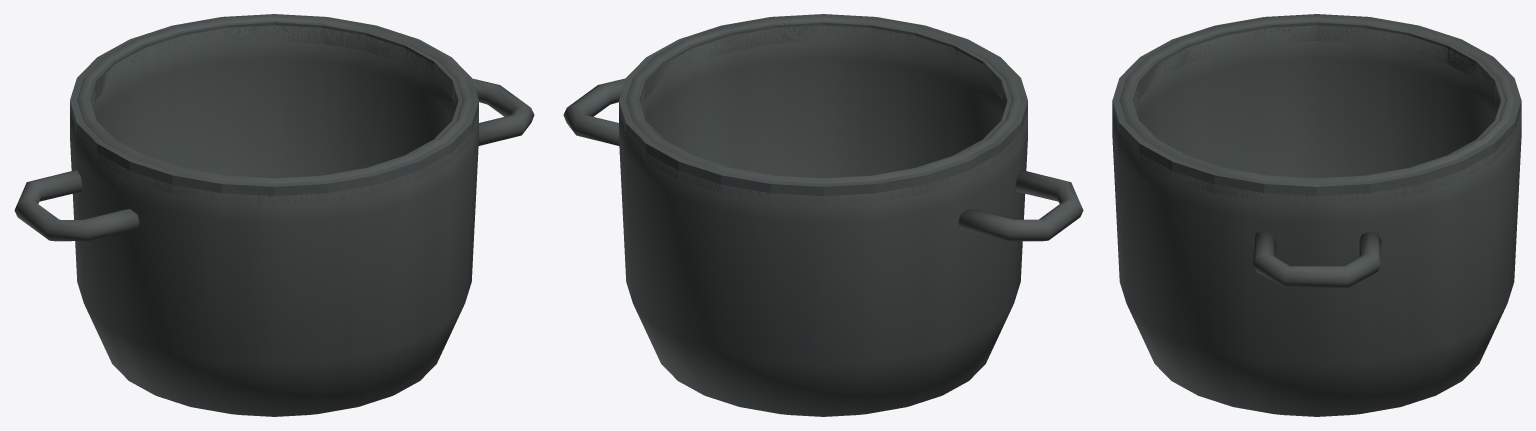
The model's file is cooking_pot.fbx.
3 views of the same model, side by side, from view 1: azimuth 30°, elevation 25°; view 2: azimuth 150°, elevation 25°; view 3: azimuth 270°, elevation 25° (orthographic).
Visible parts, largest first — view 1: cooking_pot; view 2: cooking_pot; view 3: cooking_pot.
Boxes of the visible parts, left/top/right/bottom form: cooking_pot: left=14, top=14, right=534, bottom=416; cooking_pot: left=563, top=14, right=1083, bottom=416; cooking_pot: left=1112, top=14, right=1521, bottom=416.
Bounding box in the file's own units: 0.3855 × 0.2 × 0.28.
1 material, 1 textured.
